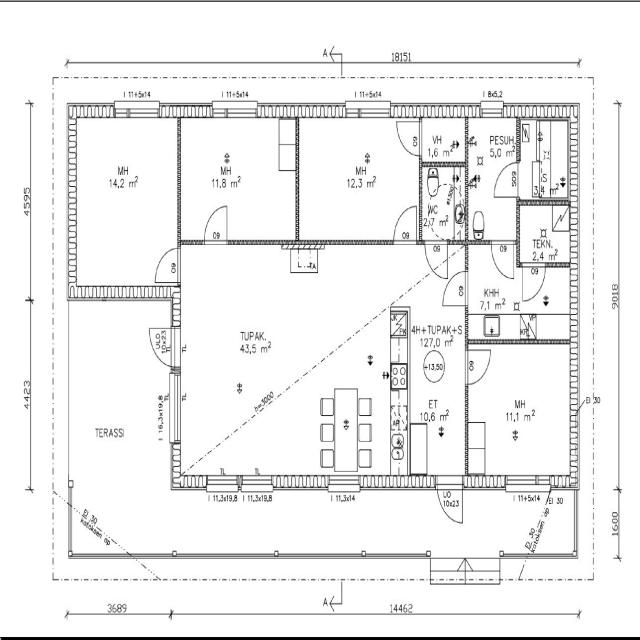door: (202, 200, 231, 245), (152, 243, 181, 284), (465, 344, 492, 386), (490, 238, 516, 280), (441, 268, 468, 308), (395, 117, 422, 157), (437, 478, 462, 521), (148, 323, 174, 364), (492, 160, 520, 198), (392, 202, 418, 242), (521, 262, 547, 302), (424, 238, 448, 280)
window: (168, 367, 185, 451), (209, 101, 259, 120), (114, 101, 161, 120), (238, 470, 276, 492), (504, 472, 548, 491), (347, 102, 392, 119), (205, 471, 240, 492), (327, 473, 361, 490), (480, 101, 505, 117)
zone: (180, 242, 468, 478), (71, 112, 179, 288), (178, 115, 298, 242), (298, 116, 418, 242), (467, 342, 578, 478), (467, 115, 519, 239), (466, 240, 518, 342), (518, 264, 578, 341), (519, 118, 571, 206), (517, 200, 575, 266), (419, 163, 466, 241), (421, 116, 466, 166), (149, 324, 172, 364)
